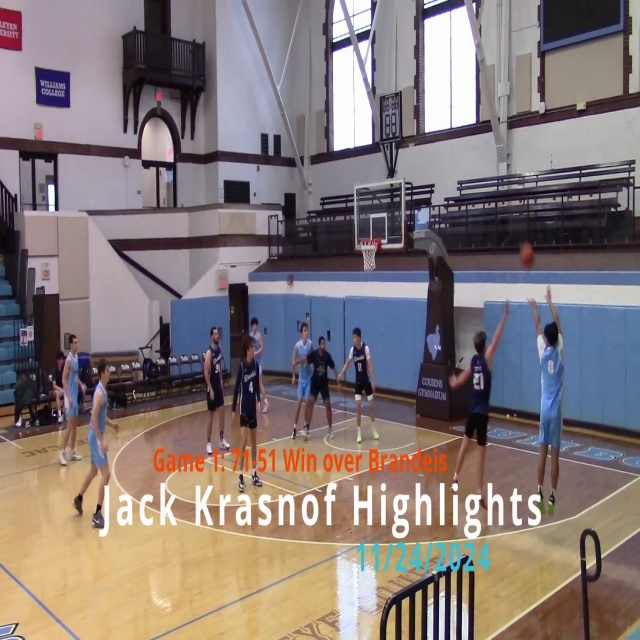Basketball: (519, 242, 534, 266), (354, 394, 361, 402)
